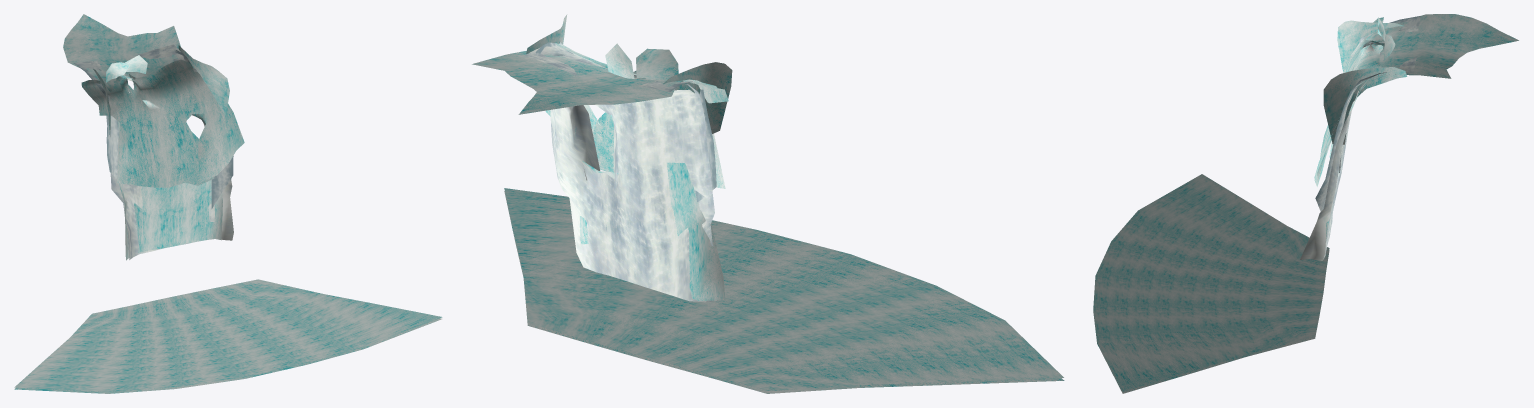
The model's file is WaterFall.obj.
3 views of the same model, side by side, from view 1: azimuth 30°, elevation 25°; view 2: azimuth 150°, elevation 25°; view 3: azimuth 270°, elevation 25° (orthographic). The views are drawn at different scales.
Visible parts, largest first — view 1: ghz03far_km1_WhitefallRipple_04.001, ghz03far_km1_WhitefallB_02.001; view 2: ghz03far_km1_WhitefallRipple_04.001, ghz03far_km1_WhitefallB_02.001; view 3: ghz03far_km1_WhitefallRipple_04.001, ghz03far_km1_WhitefallB_02.001.
Boxes of the visible parts, x1,y1,x2,y2 form: ghz03far_km1_WhitefallRipple_04.001: (14,279,442,393); ghz03far_km1_WhitefallB_02.001: (63,14,244,260); ghz03far_km1_WhitefallRipple_04.001: (504,188,1064,393); ghz03far_km1_WhitefallB_02.001: (472,14,732,302); ghz03far_km1_WhitefallRipple_04.001: (1093,174,1329,393); ghz03far_km1_WhitefallB_02.001: (1300,14,1518,260).
Size of the model in its own units: 1.6 by 0.8791 by 1.32.
